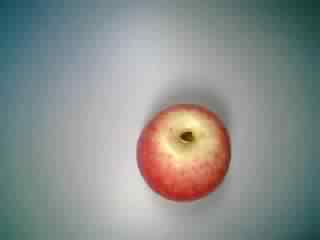apple: (131, 103, 237, 202)
